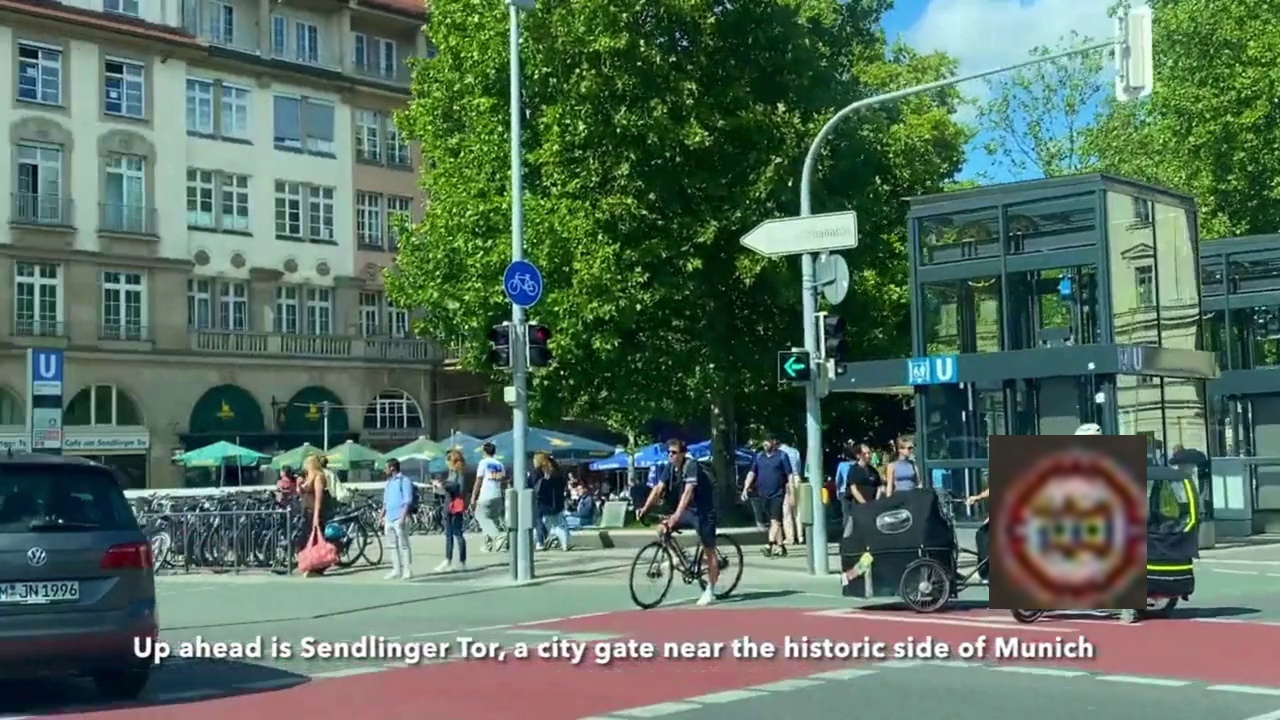Speed 100: (989, 435, 1147, 609)
